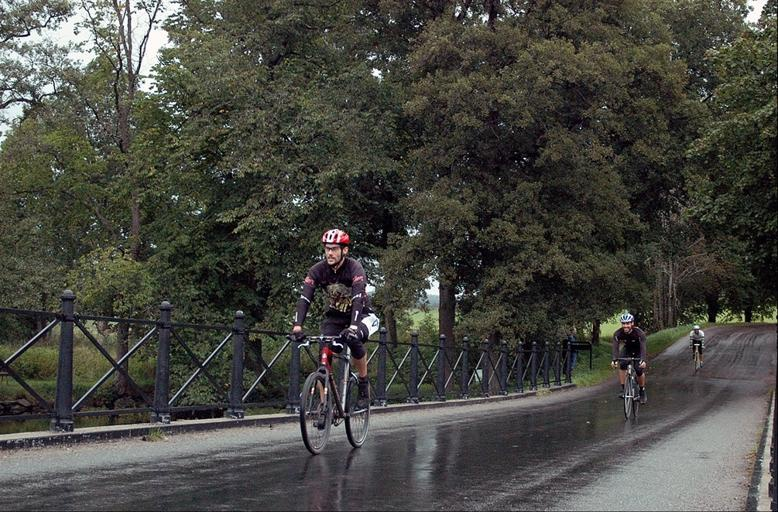non-vehicle: (284, 328, 373, 452), (610, 356, 643, 417), (688, 343, 706, 372)
